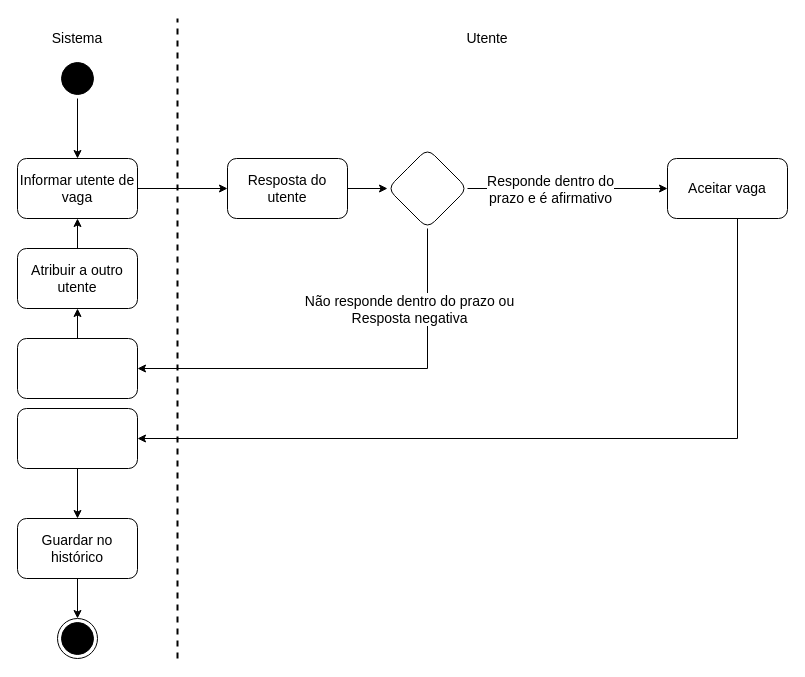
Image size: 805x677. Some labels were removed from this diagram. The shapes that lost their labels are listed below. From the top down, each one's centre as x and y in pixels, then its label:
the point at 77,368: Registar vaga não aceite
the point at 77,438: Atribuir vaga
